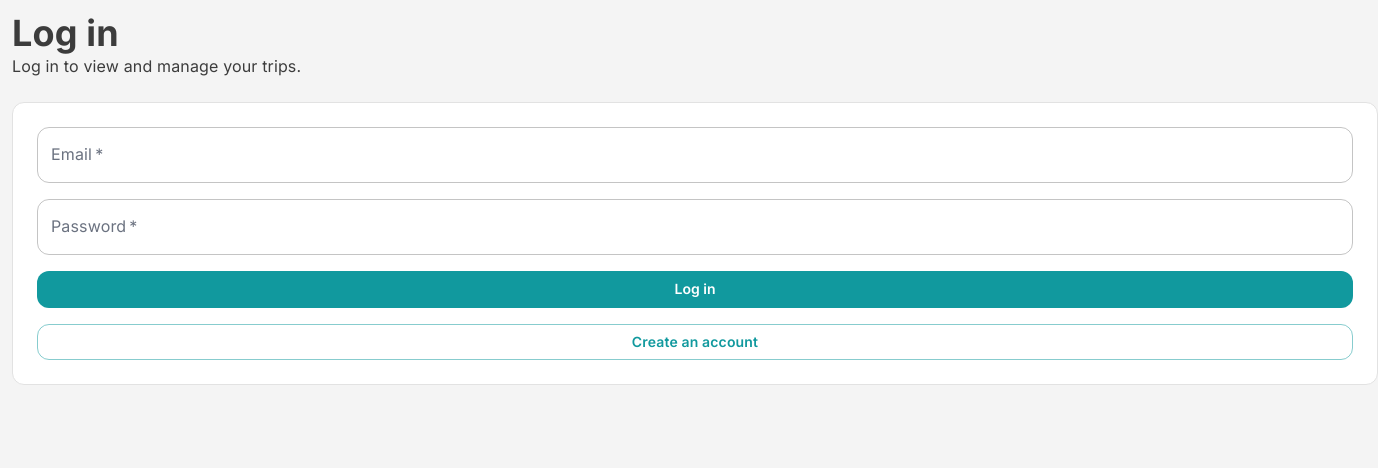
LoginPage › shows a validation message when required fields are missing
The width and height of the screenshot is (1378, 468).
Click the button "Log in": click(695, 289) x1=37 y1=271 x2=1353 y2=308
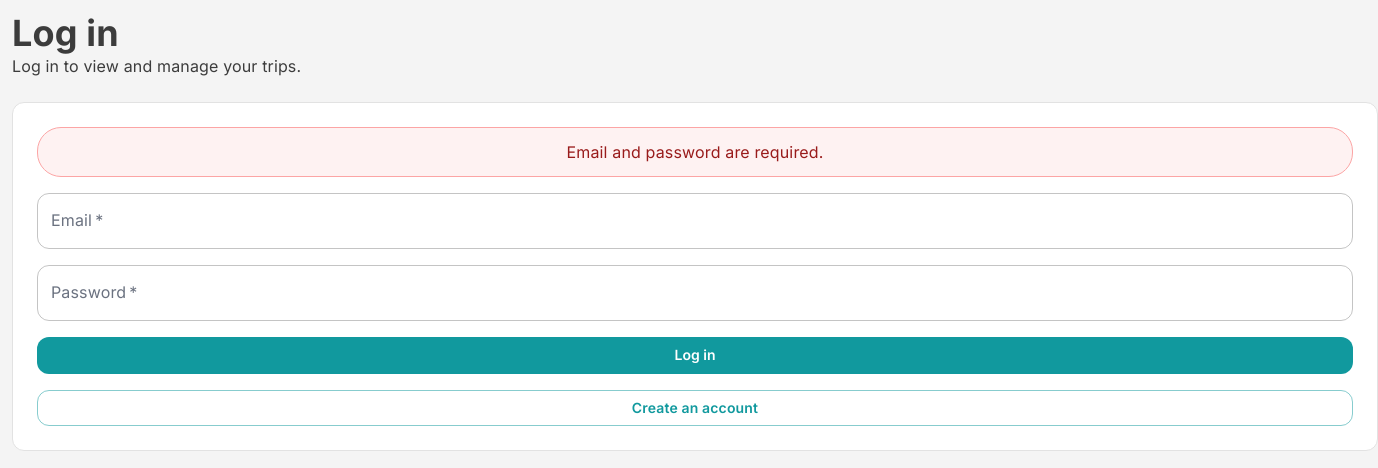
Check: the message reads "Email and password are required.", box x1=566 y1=142 x2=824 y2=162
